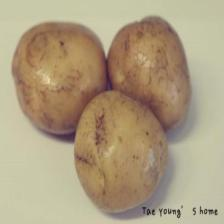Potato: (10, 18, 111, 142), (72, 89, 170, 215), (105, 14, 192, 140)
